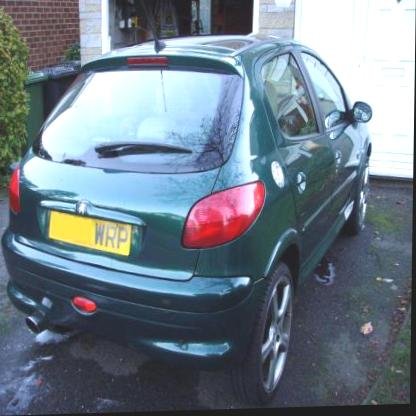License_Plate: (49, 208, 133, 258)
